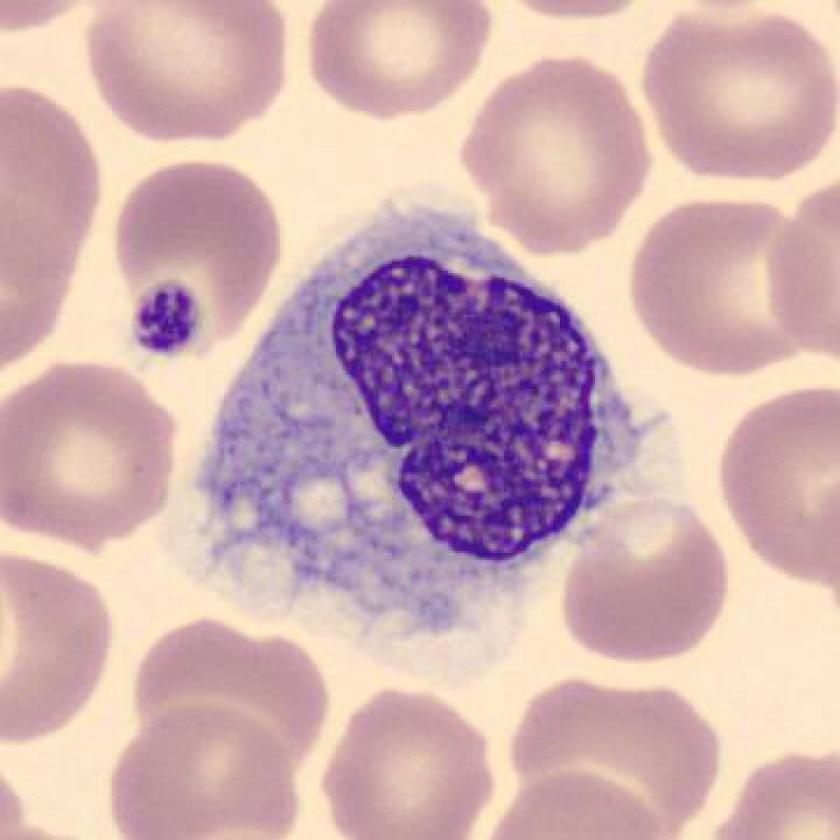monocyte: (146, 179, 682, 691)
